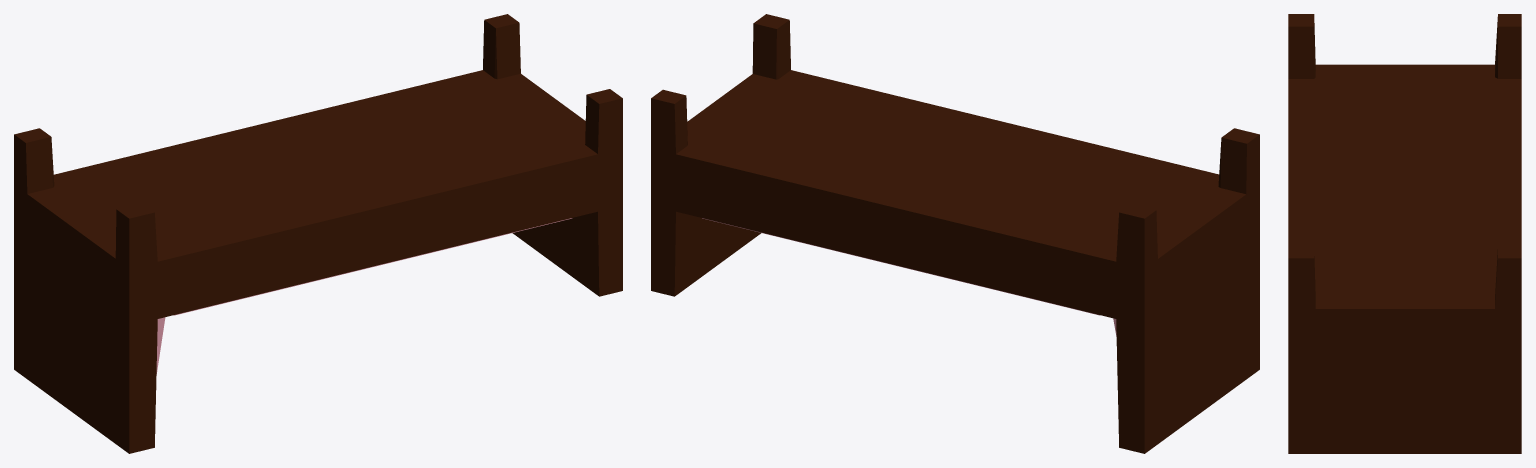
File: bett.dae
The picture shows the model from 3 angles, left to right: view 1: azimuth 30°, elevation 25°; view 2: azimuth 150°, elevation 25°; view 3: azimuth 270°, elevation 25°; orthographic projection.
Parts seen in each view (by area): view 1: Cube, Cube_001; view 2: Cube; view 3: Cube.
Boxes of the visible parts, x1,y1,x2,y2 form: Cube: (14,14,622,453); Cube_001: (156,218,572,373); Cube: (651,14,1259,453); Cube: (1288,14,1521,453).
Bounding box in the file's own units: 5.63 × 2.27 × 2.56.
